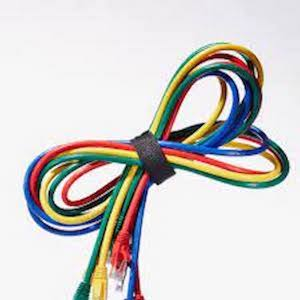combustible: (33, 133, 146, 290), (161, 47, 282, 178)
